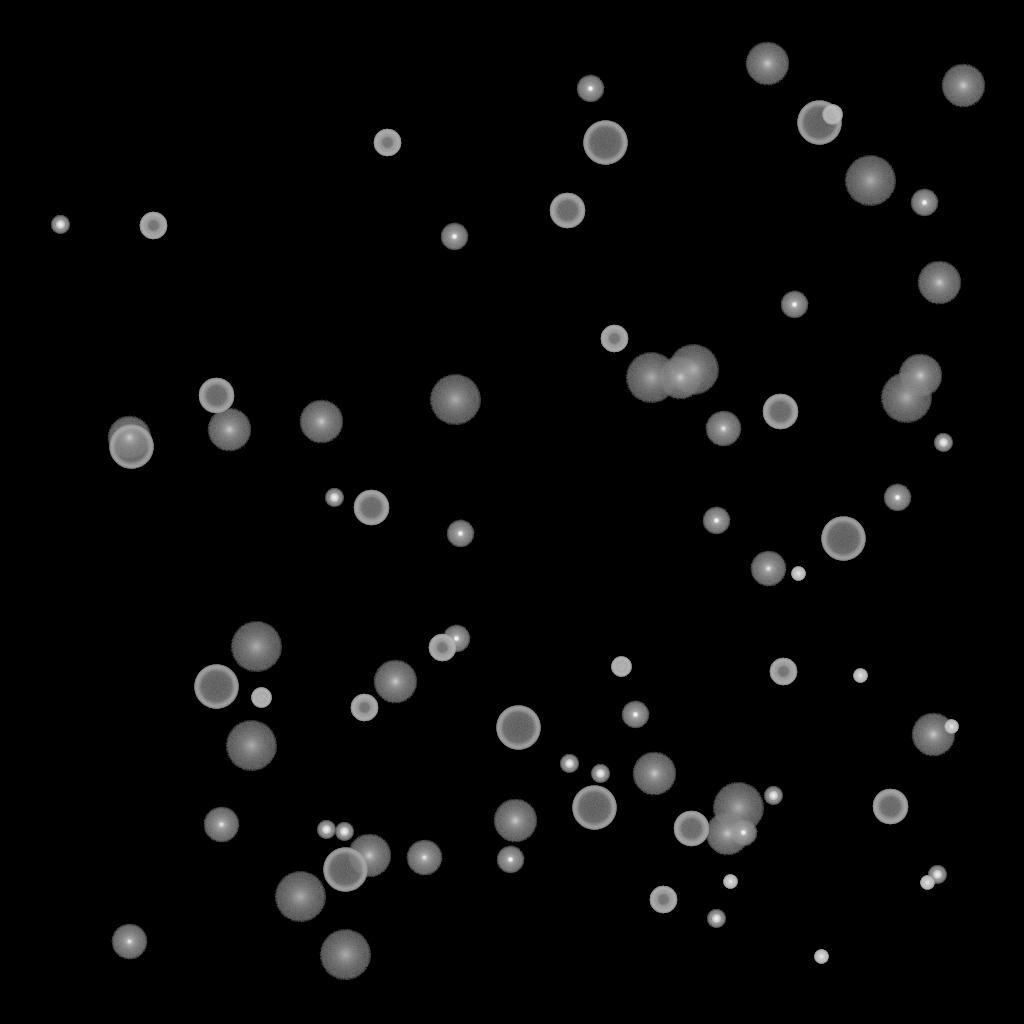depth:-10: (910, 189, 938, 217), (729, 819, 757, 847), (780, 291, 808, 319), (440, 223, 468, 251), (621, 701, 649, 729), (442, 625, 470, 653), (496, 846, 524, 874), (702, 507, 730, 535), (883, 484, 911, 512), (446, 520, 474, 548), (576, 75, 604, 103)
depth:-20: (928, 866, 946, 884), (560, 755, 578, 773), (317, 821, 335, 839), (51, 216, 69, 234), (764, 787, 782, 805), (325, 489, 343, 507), (934, 434, 952, 452), (707, 910, 725, 928), (335, 823, 353, 841), (591, 765, 609, 783)
depth:-30: (944, 720, 958, 734), (791, 567, 805, 581), (814, 950, 828, 964), (920, 876, 934, 890), (853, 669, 867, 683), (723, 875, 737, 889)
depth:-40: (611, 657, 631, 677), (251, 688, 271, 708), (822, 105, 842, 125)
depth:-50: (373, 129, 401, 157), (428, 634, 456, 662), (600, 325, 628, 353), (649, 886, 677, 914), (139, 212, 167, 240), (769, 658, 797, 686), (350, 694, 378, 722)
depth:-60: (353, 490, 389, 526), (762, 394, 798, 430), (872, 789, 908, 825), (549, 193, 585, 229), (673, 811, 709, 847), (198, 378, 234, 414)
depth:-70: (572, 786, 616, 830), (194, 665, 238, 709), (323, 848, 367, 892), (797, 101, 841, 145), (496, 706, 540, 750), (583, 121, 627, 165), (109, 425, 153, 469), (821, 517, 865, 561)
depth:0: (111, 924, 147, 960), (750, 551, 786, 587), (705, 411, 741, 447), (203, 807, 239, 843), (406, 840, 442, 876)
depth:10: (347, 834, 391, 878), (917, 261, 961, 305), (705, 812, 749, 856), (493, 799, 537, 843), (911, 713, 955, 757), (941, 64, 985, 108), (658, 356, 702, 400), (632, 752, 676, 796), (107, 416, 151, 460), (373, 660, 417, 704), (207, 408, 251, 452), (745, 42, 789, 86), (299, 400, 343, 444), (898, 354, 942, 398)
depth:20: (429, 375, 481, 425), (880, 373, 932, 423), (274, 872, 326, 922), (225, 721, 277, 771), (230, 622, 282, 672), (712, 783, 764, 833), (667, 345, 719, 395), (625, 353, 677, 403), (844, 156, 896, 206), (319, 930, 371, 980)
